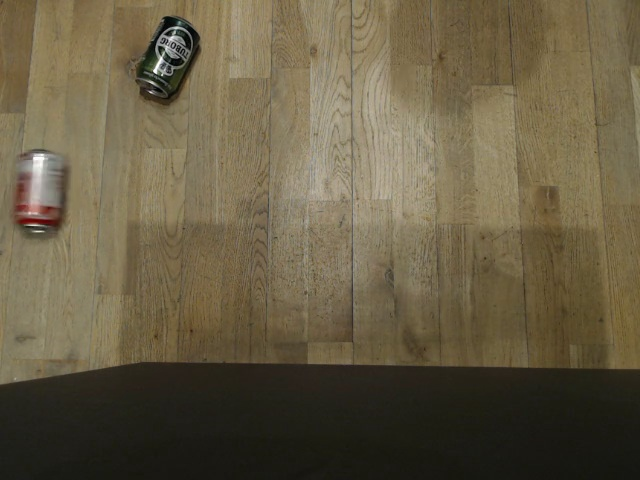beer: (131, 11, 204, 102)
cola: (13, 146, 67, 233)
